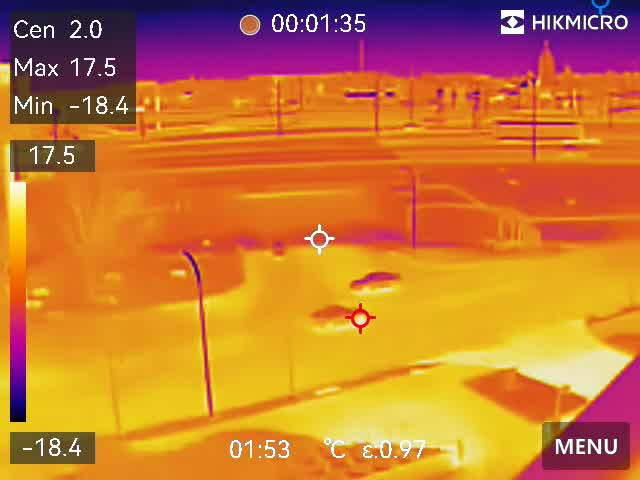heavyTruck: (488, 119, 605, 150)
smallCar: (307, 303, 370, 330), (348, 270, 402, 292)
vehicle: (268, 236, 291, 263), (397, 121, 427, 133)
